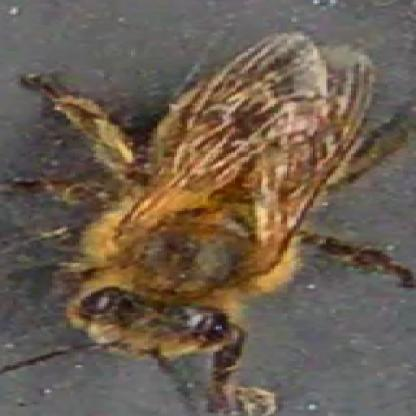bee: (46, 53, 394, 359)
